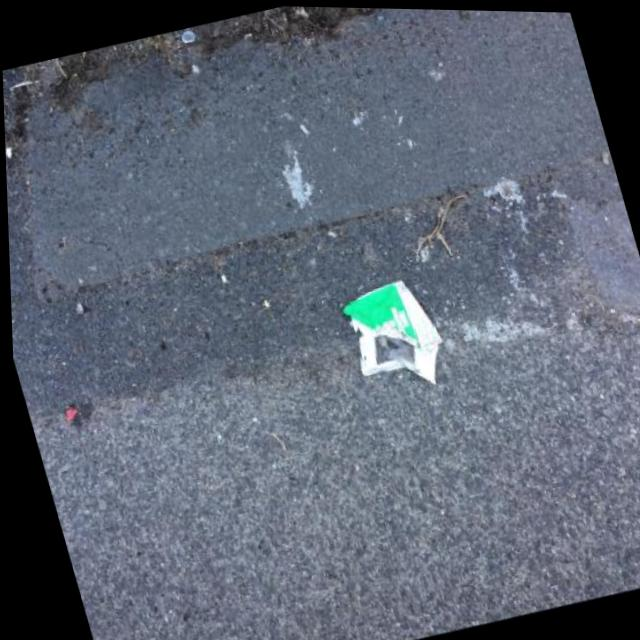cardboard: (337, 272, 455, 404)
